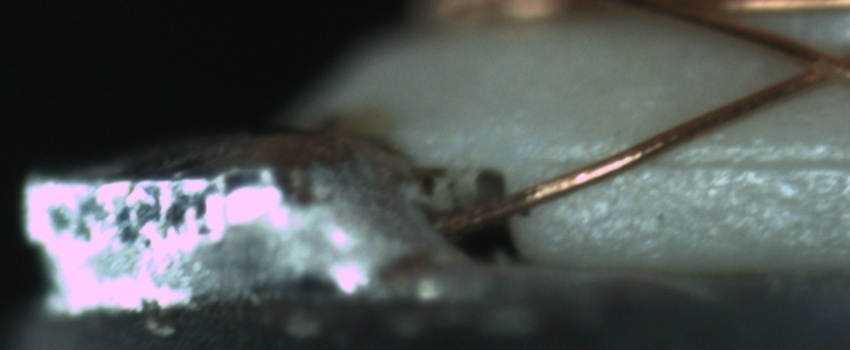CL: (778, 36, 846, 92)
DL: (554, 131, 850, 196)
